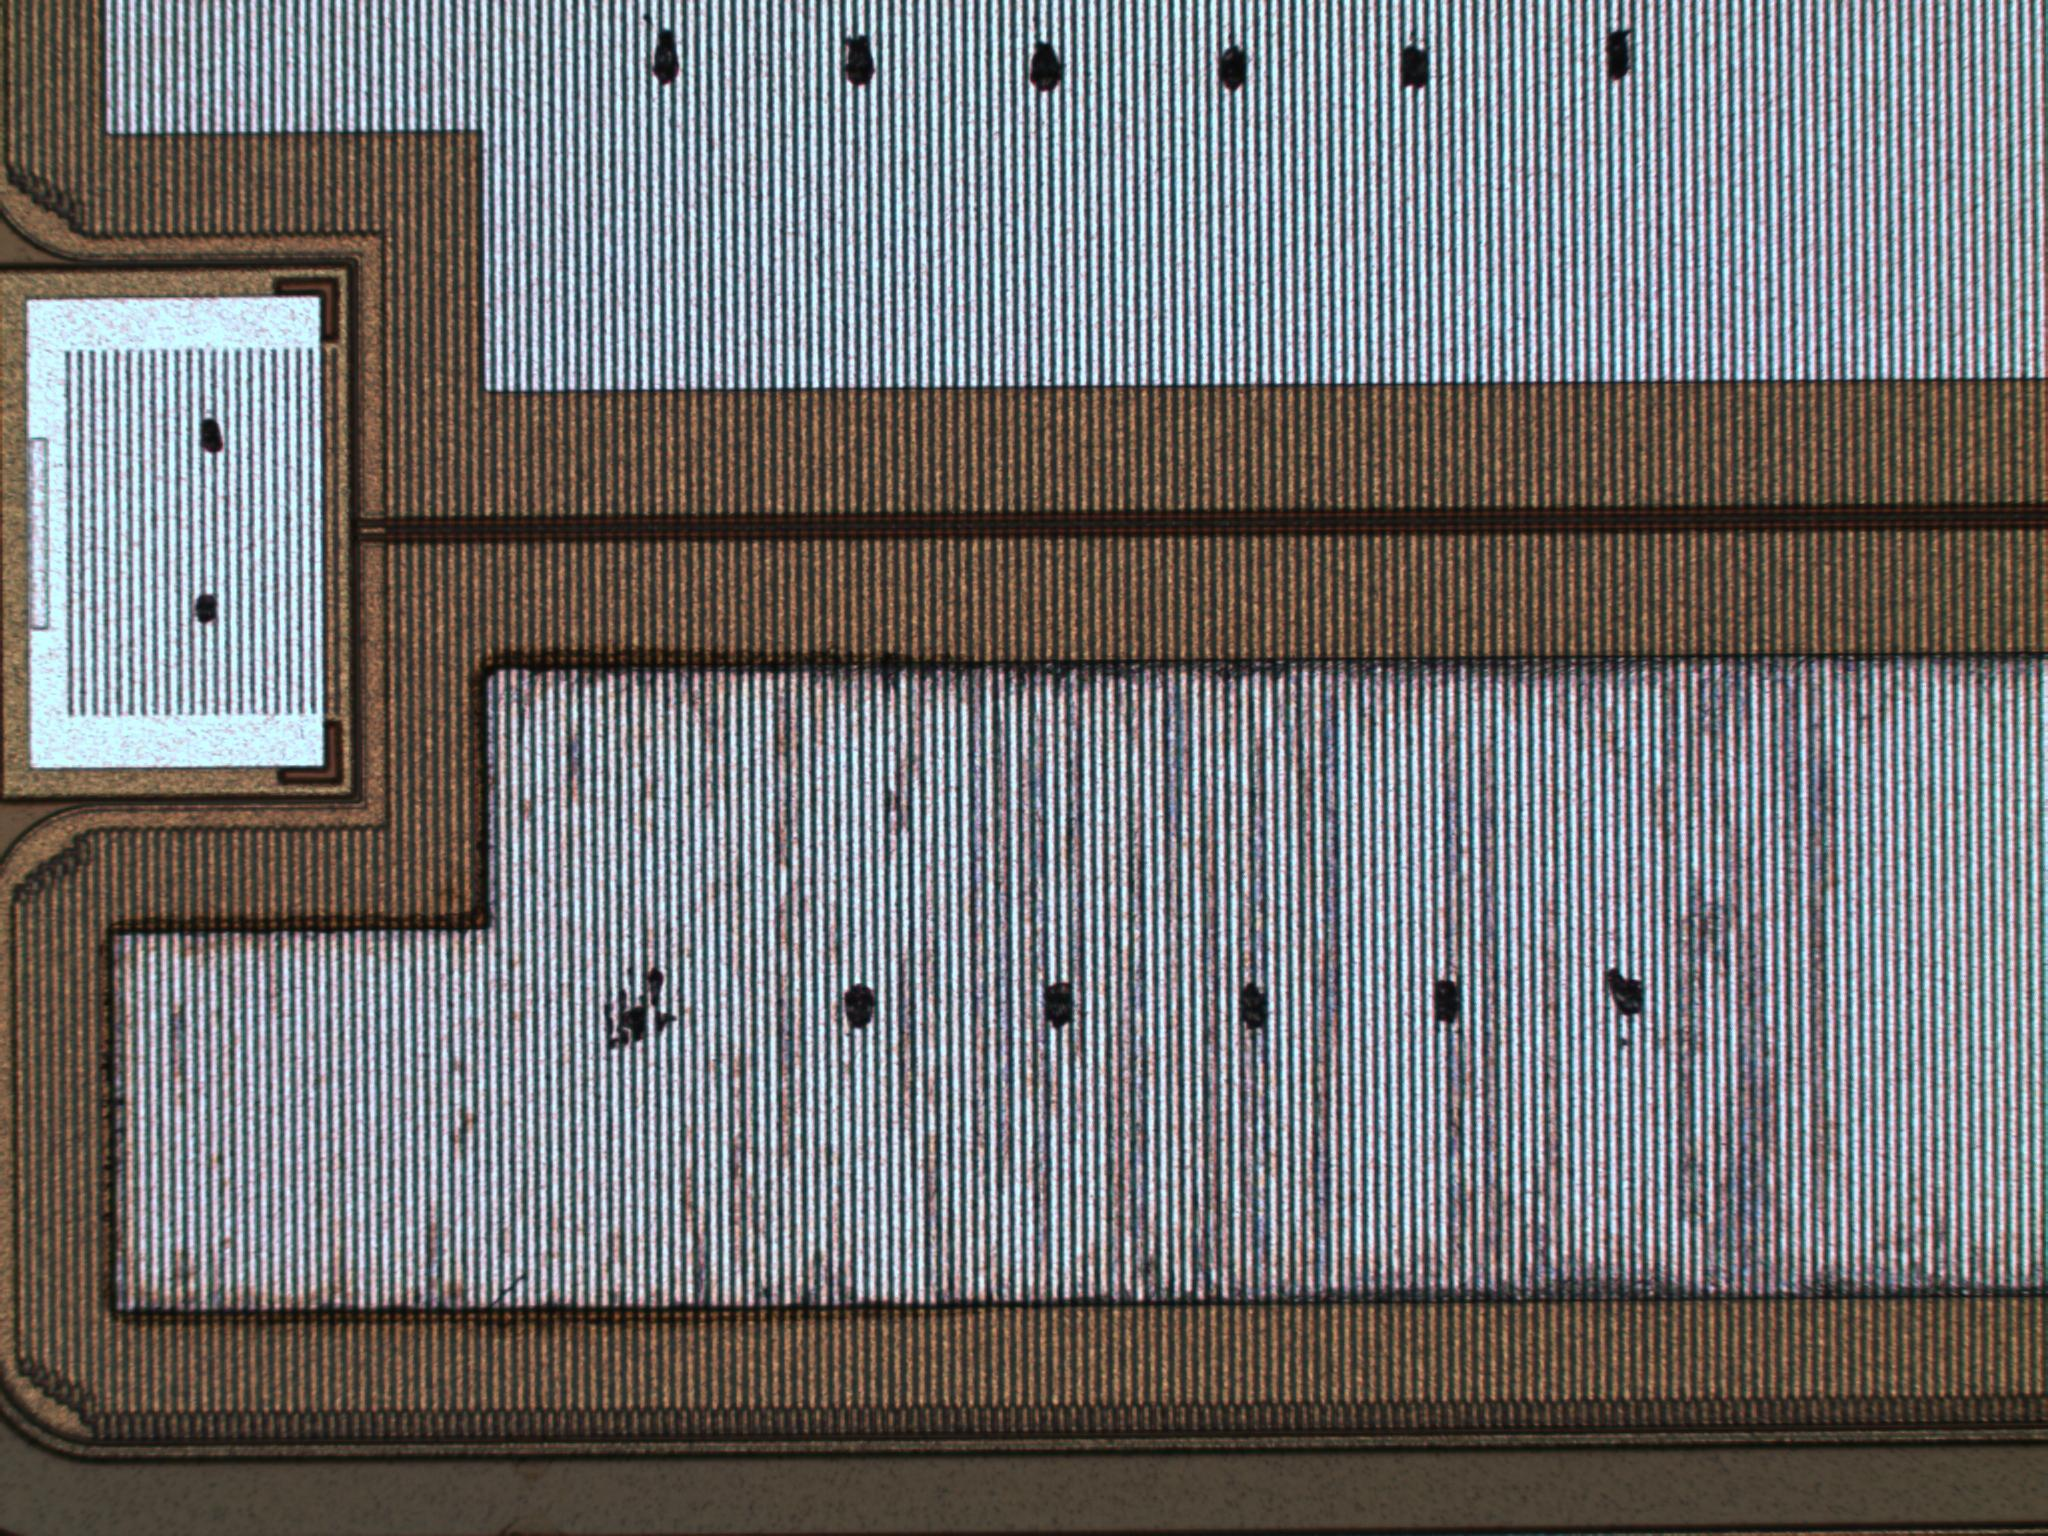SEZ BURNT: (110, 650, 2048, 1321)
